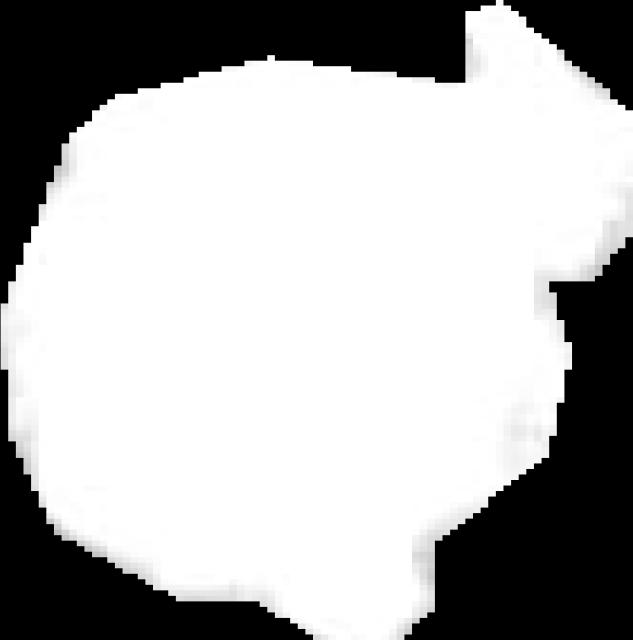tumor_less_chance: (1, 0, 633, 640)
